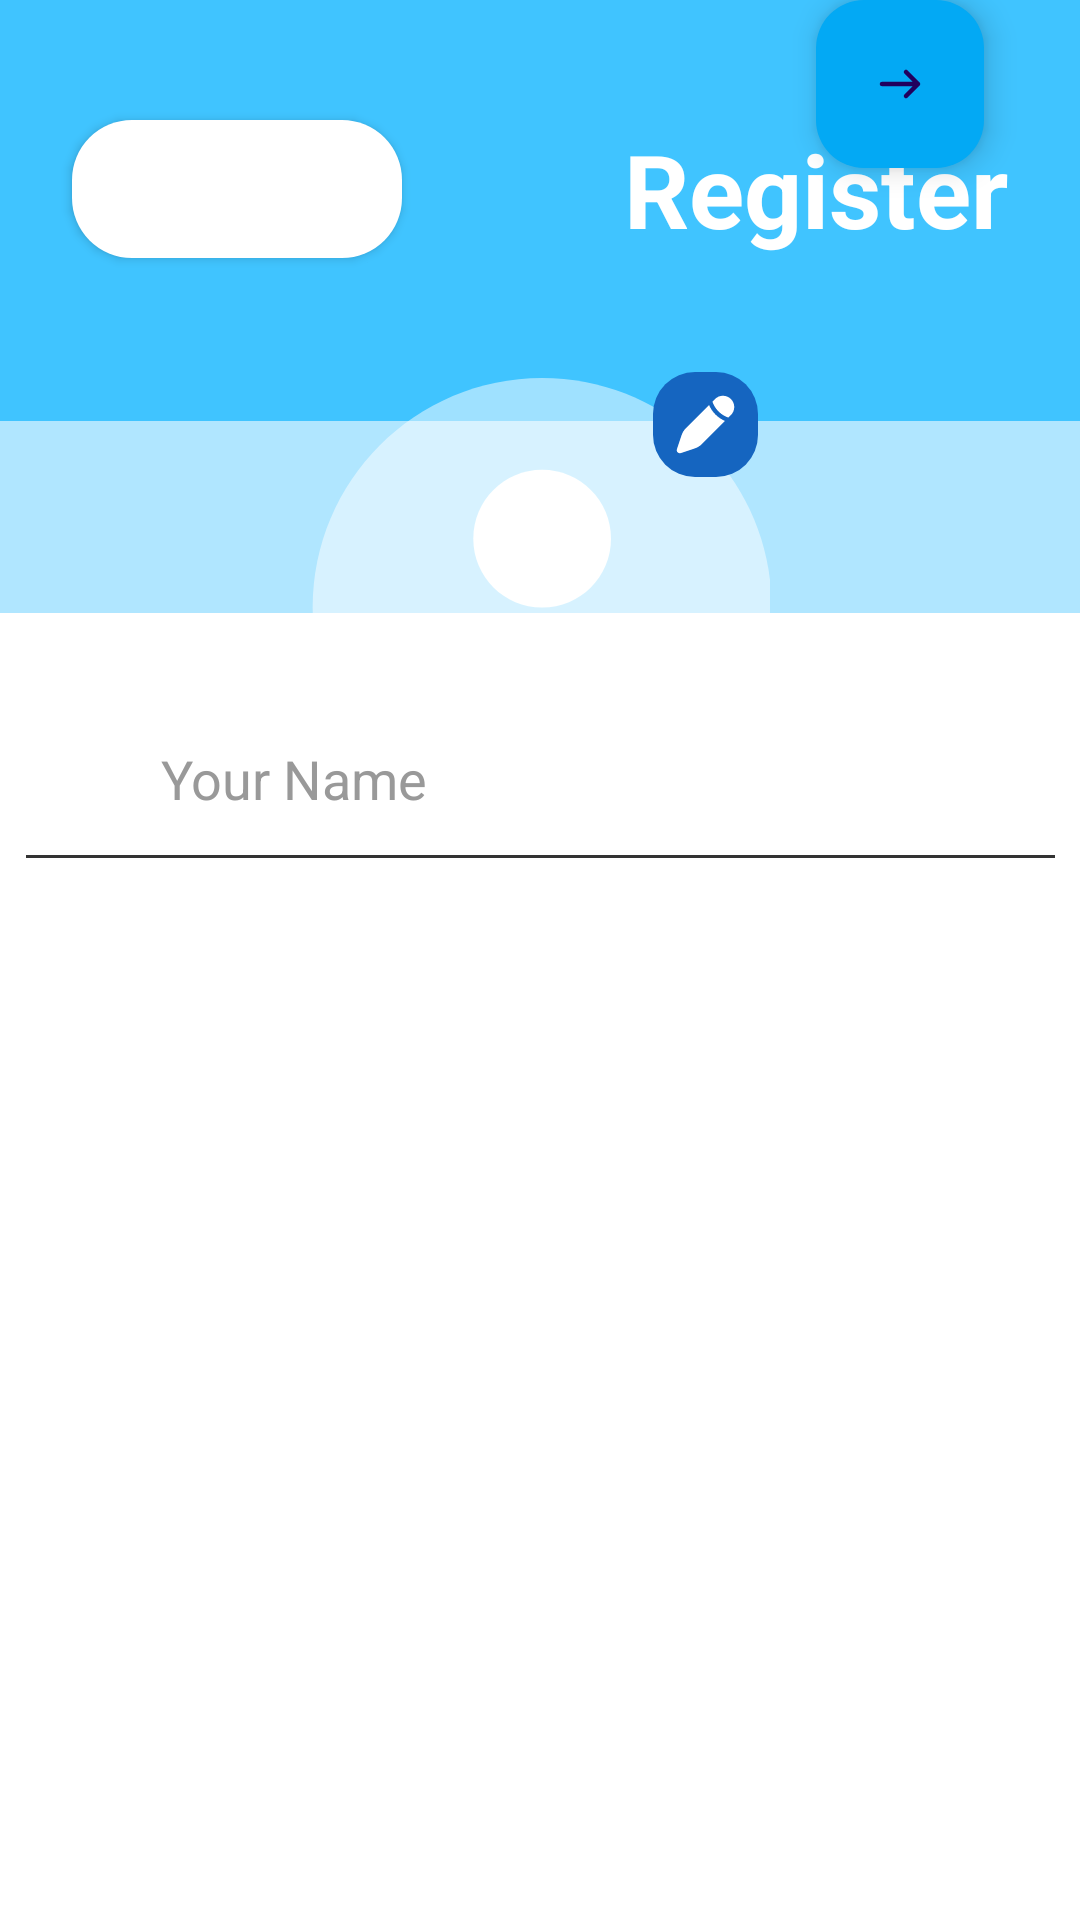

Locate icon controls on the screen. Image size 1080px×1920px, boxes as box(x1, y1, x2, y2).
continue: box(816, 0, 984, 168)
